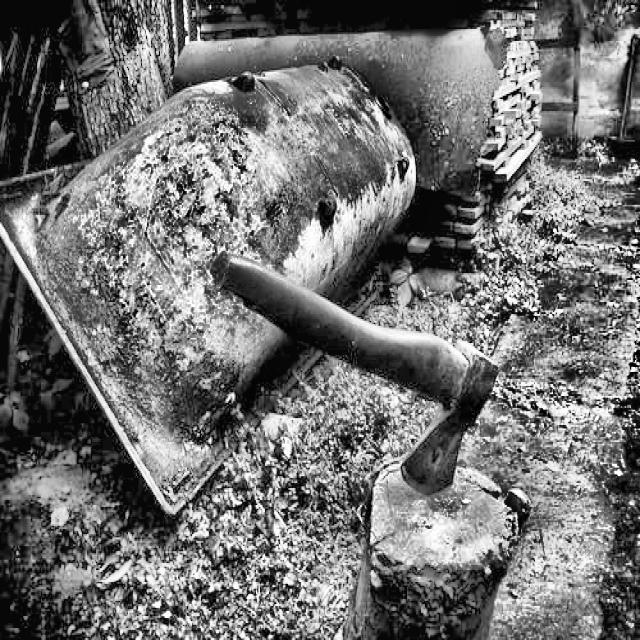kapak: (201, 241, 513, 519)
